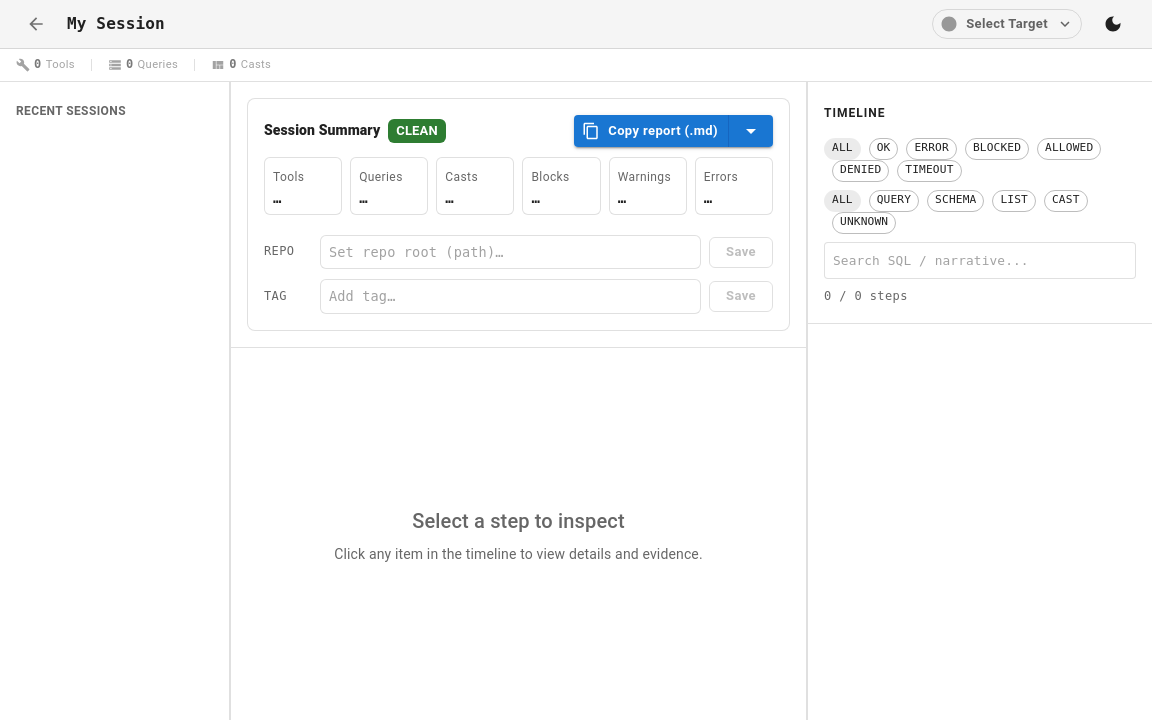
Test: SessionDetailPage › renders export buttons and menu correctly
The image size is (1152, 720).
Expected: the text "My Session" is shown, [67, 12, 165, 36]
Expected: the button "Copy report (.md)" is shown, [574, 115, 729, 147]
# Find split button dropdown arrow
Step 1. Click the button named "select merge strategy" → (751, 131), box [729, 115, 773, 147]
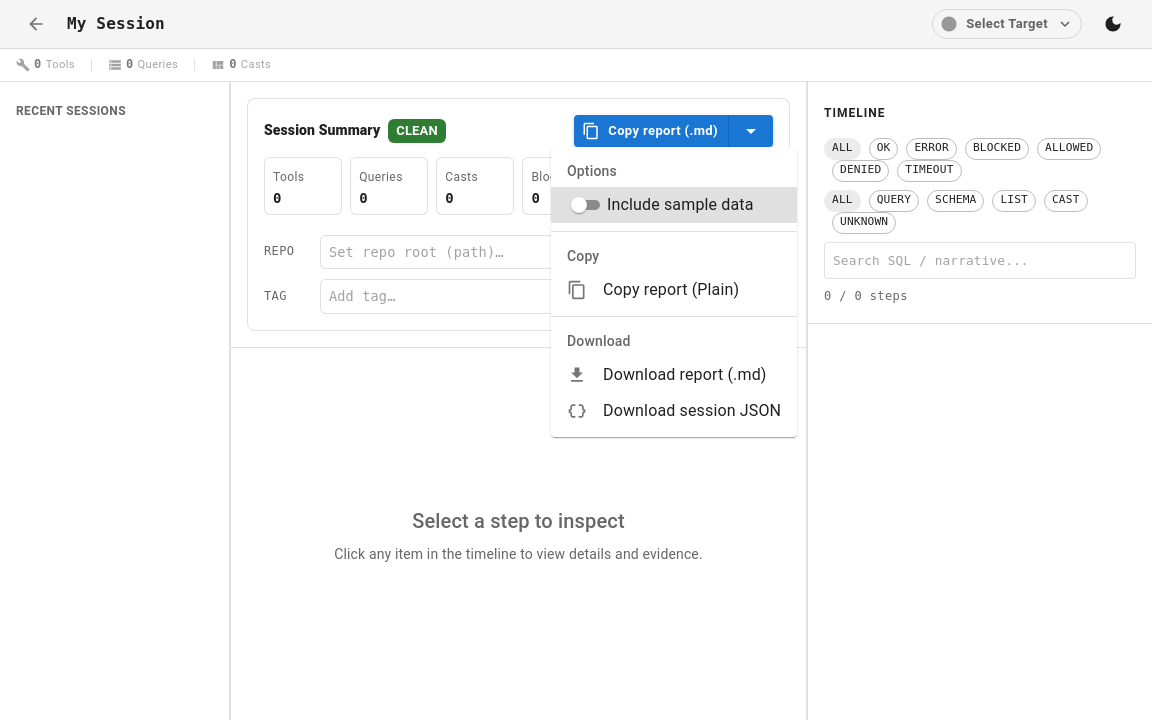
Now the text "Include sample data" is shown, box [607, 195, 754, 214]
Now the list item "Download" is shown, box [567, 333, 631, 349]
Now the text "Download report (.md)" is shown, box [603, 363, 781, 387]
